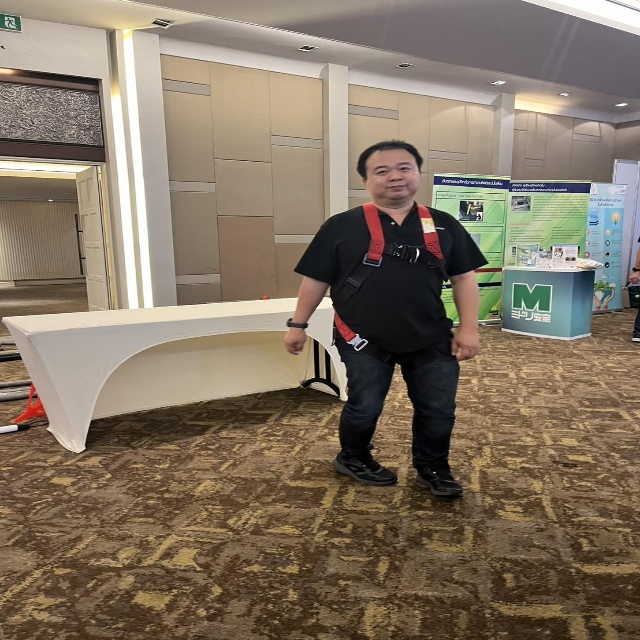Arnes_seguridad: (333, 197, 456, 363)
